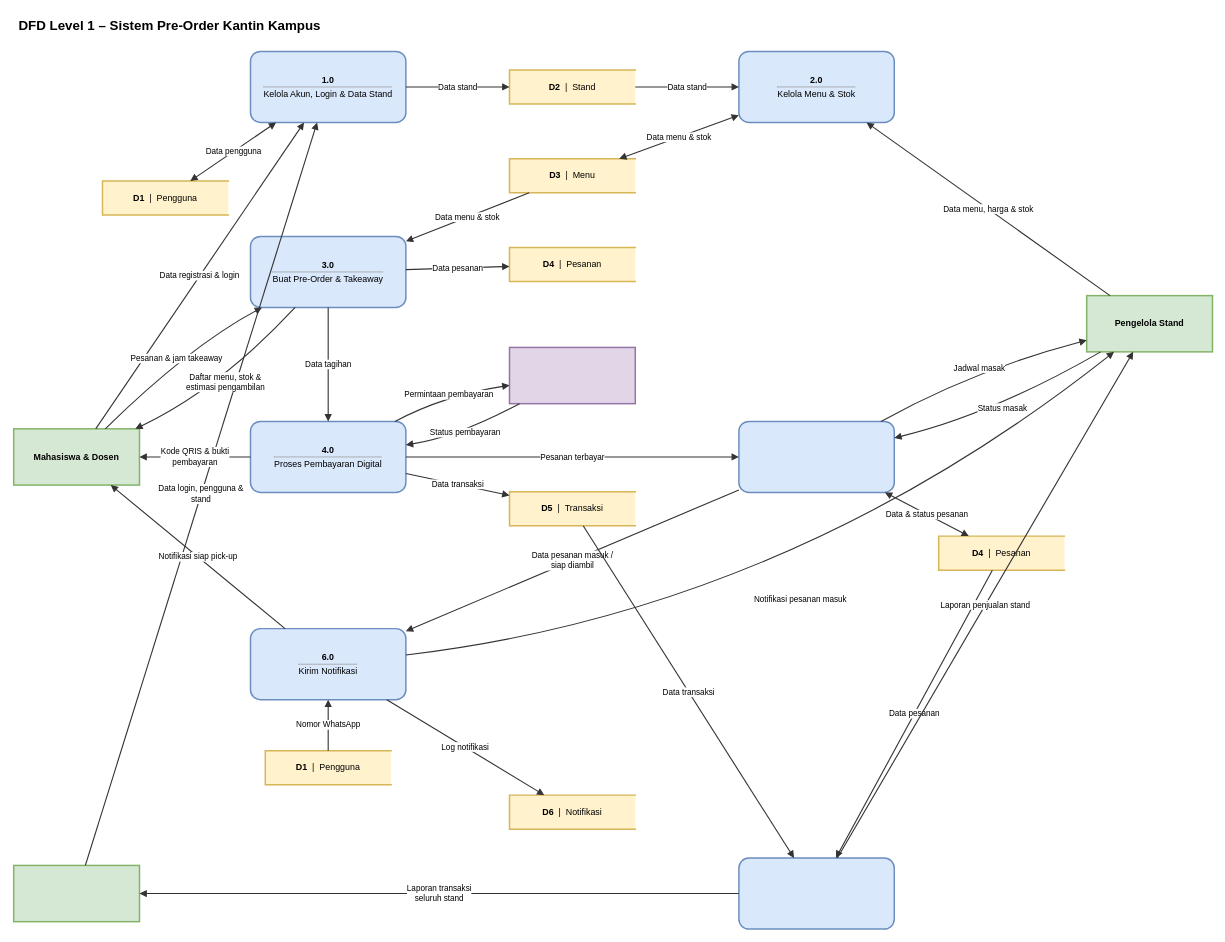
This 1225x942 diagram has some shape labels left out. Each missing label, with the centre of its shape:
"5.0 Kelola Pesanan & Jadwal Masak" goes at pixel 816 456.
"7.0 Buat Laporan" goes at pixel 816 893.
"Payment Gateway" goes at pixel 572 375.
"Pengelola Kantin" goes at pixel 76 893.
